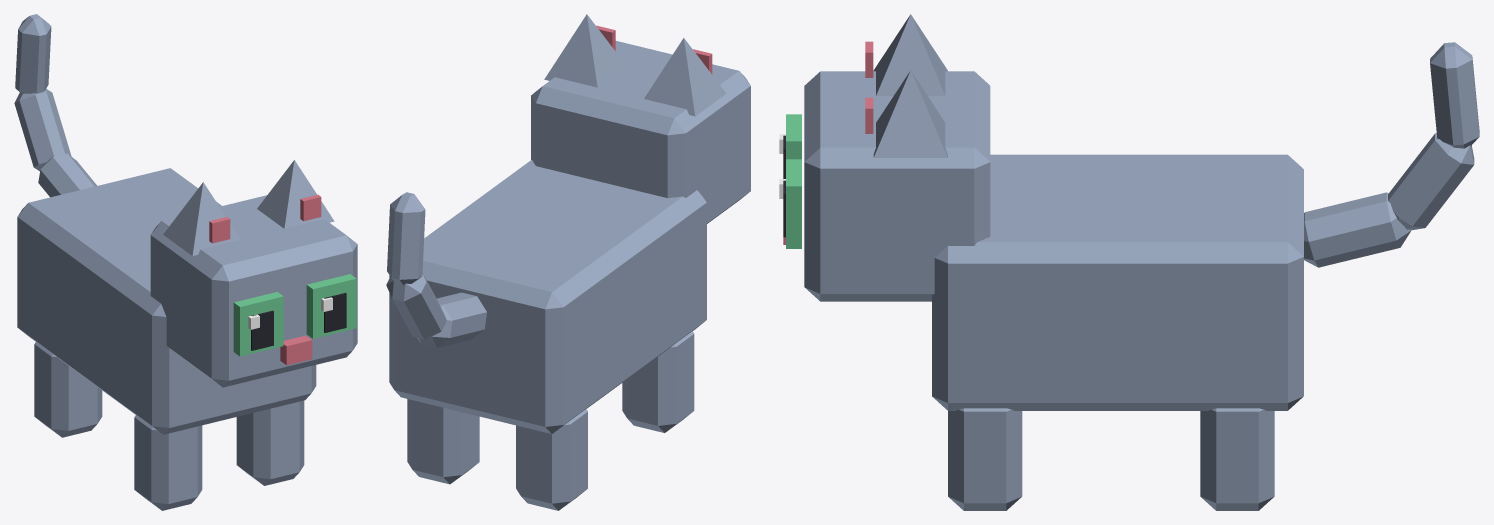
The model's file is CatCafe_Cat_Blue.glb.
3 views of the same model, side by side, from view 1: azimuth 30°, elevation 25°; view 2: azimuth 150°, elevation 25°; view 3: azimuth 270°, elevation 25° (orthographic). The views are drawn at different scales.
Visible parts, largest first — view 1: CatCafe_Cat_Blue_Body, CatCafe_Cat_Blue_Head, CatCafe_Cat_Blue_Tail; view 2: CatCafe_Cat_Blue_Body, CatCafe_Cat_Blue_Head, CatCafe_Cat_Blue_Tail; view 3: CatCafe_Cat_Blue_Body, CatCafe_Cat_Blue_Head, CatCafe_Cat_Blue_Tail.
Part boxes in pixels (x1=…): CatCafe_Cat_Blue_Body: x1=17, y1=168, x2=316, y2=510; CatCafe_Cat_Blue_Head: x1=150, y1=160, x2=357, y2=387; CatCafe_Cat_Blue_Tail: x1=14, y1=14, x2=97, y2=197; CatCafe_Cat_Blue_Body: x1=389, y1=160, x2=706, y2=510; CatCafe_Cat_Blue_Head: x1=531, y1=14, x2=750, y2=223; CatCafe_Cat_Blue_Tail: x1=386, y1=192, x2=486, y2=347; CatCafe_Cat_Blue_Body: x1=932, y1=154, x2=1303, y2=510; CatCafe_Cat_Blue_Head: x1=779, y1=14, x2=990, y2=301; CatCafe_Cat_Blue_Tail: x1=1304, y1=42, x2=1479, y2=267.
Size of the model in its own units: 0.9 by 1.78 by 2.64.
Materials: 1 (1 with a texture image).
